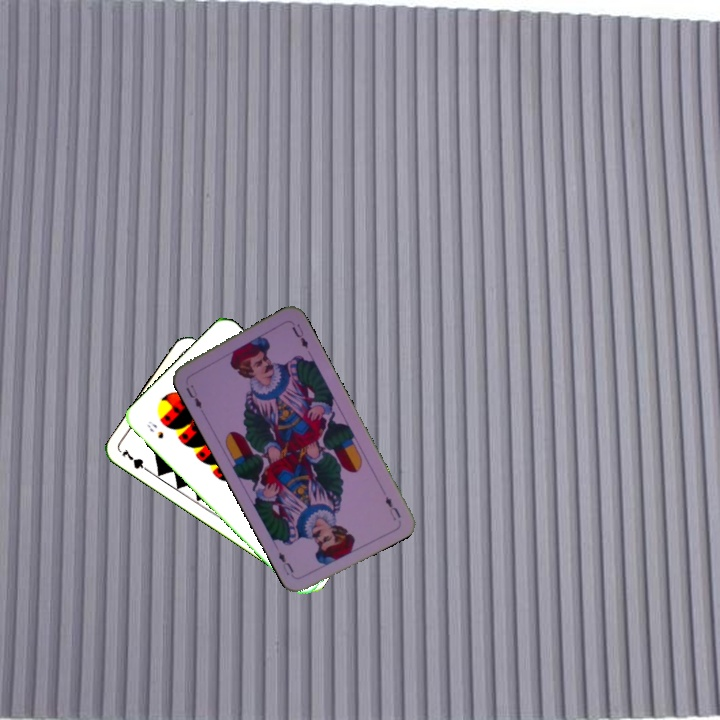EU: (182, 381, 204, 412), (381, 492, 403, 523)
G7: (117, 445, 154, 476)
S8: (143, 417, 166, 441)
